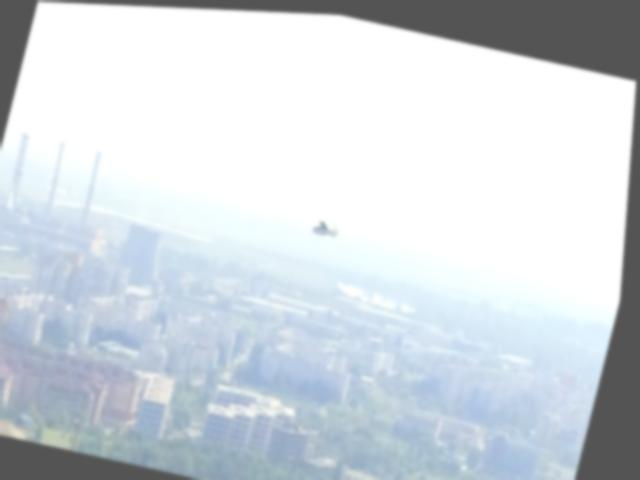plane: (312, 214, 345, 239)
